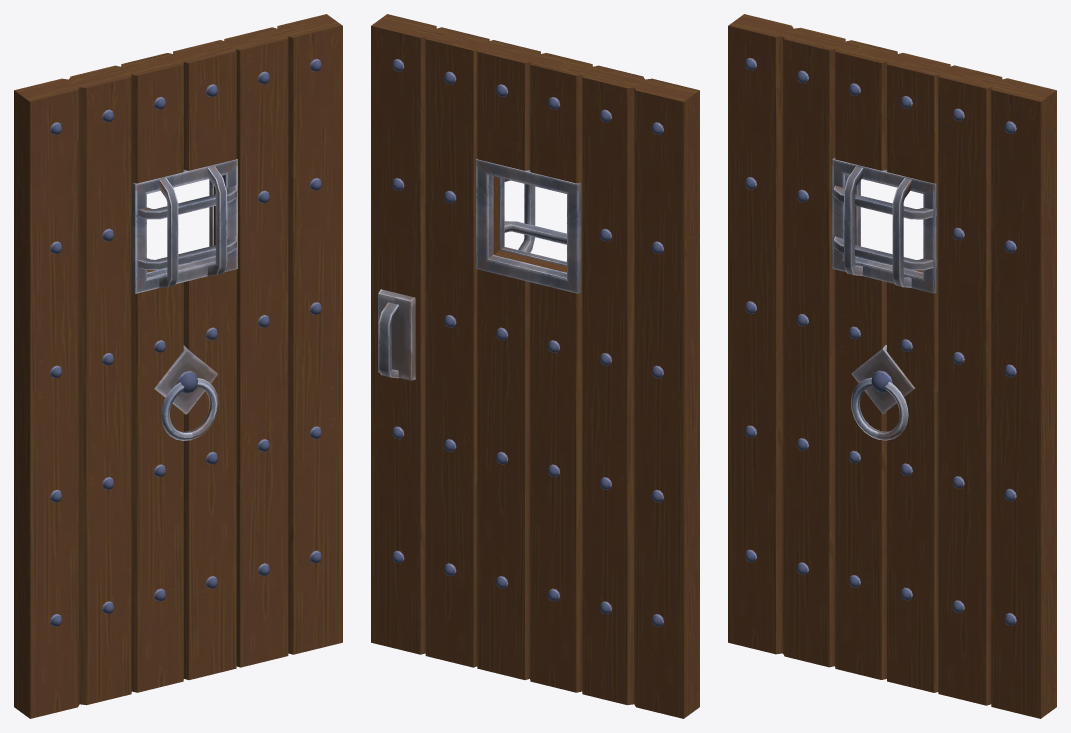
The model's file is door_2_flat.glb.
3 views of the same model, side by side, from view 1: azimuth 30°, elevation 25°; view 2: azimuth 150°, elevation 25°; view 3: azimuth 330°, elevation 25° (orthographic).
Bounding box in the file's own units: 1.11 × 2.1 × 0.2609.
Materials: 2 (2 with a texture image).
